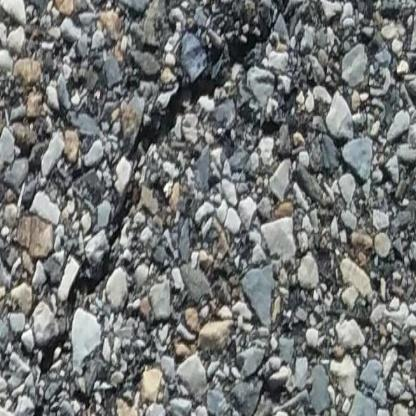Cracks: (25, 9, 288, 416)
